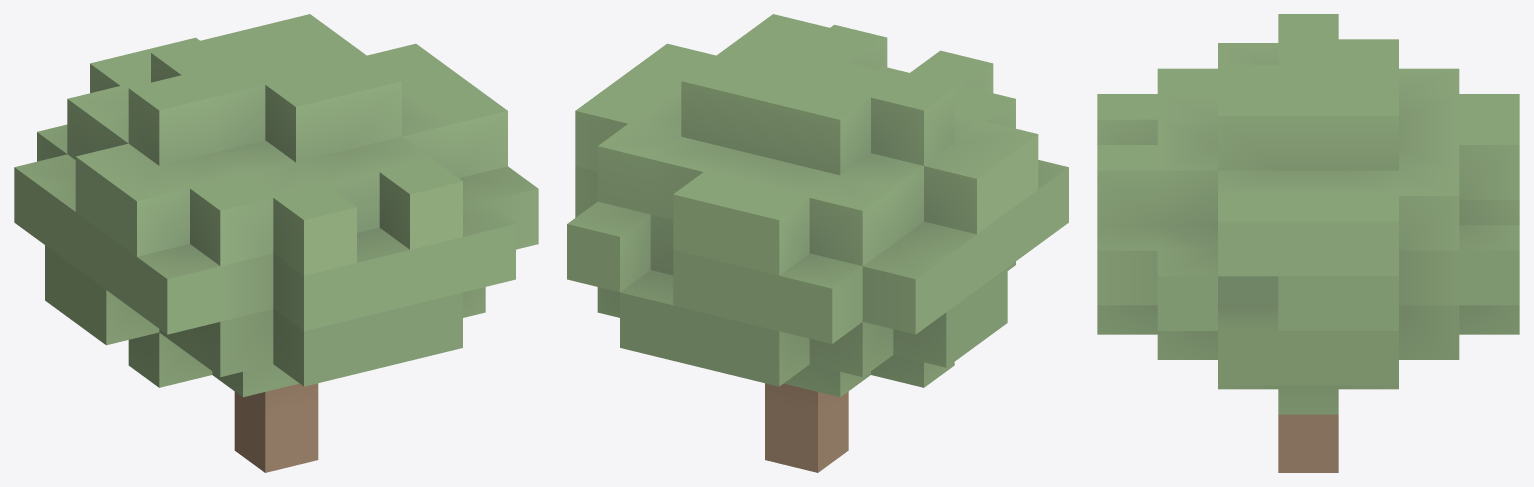
The model's file is decor_tree_d.glb.
3 views of the same model, side by side, from view 1: azimuth 30°, elevation 25°; view 2: azimuth 150°, elevation 25°; view 3: azimuth 270°, elevation 25° (orthographic).
Visible parts, largest first — view 1: decor_tree_d; view 2: decor_tree_d; view 3: decor_tree_d.
Part boxes in pixels (x1,y1,x2,y2): decor_tree_d: (14, 14, 538, 472); decor_tree_d: (567, 14, 1068, 472); decor_tree_d: (1097, 14, 1519, 472).
Size of the model in its own units: 0.875 by 0.875 by 0.875.
